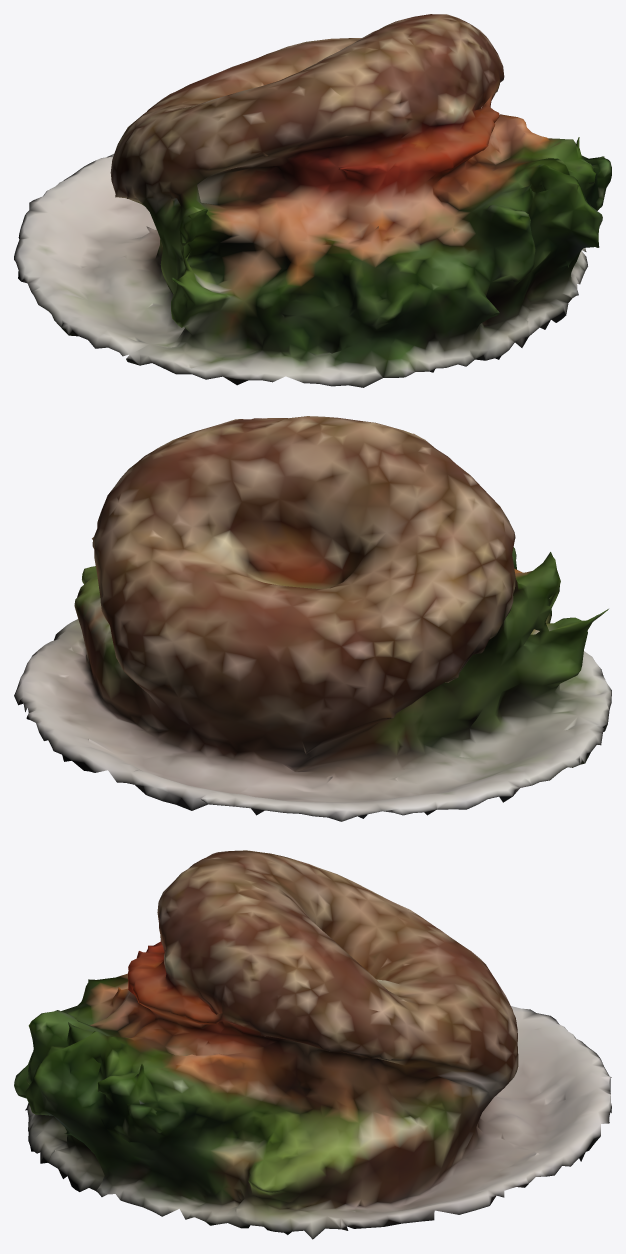
Rendered from valmisleipa3.obj.
3 renders of one model, top to bottom at view 1: azimuth 30°, elevation 25°; view 2: azimuth 150°, elevation 25°; view 3: azimuth 270°, elevation 25°, orthographic. The views are drawn at different scales.
Visible parts, largest first — view 1: Group_Global; view 2: Group_Global; view 3: Group_Global.
Part boxes in pixels (x1=…): Group_Global: x1=14, y1=14, x2=611, y2=387; Group_Global: x1=14, y1=416, x2=611, y2=821; Group_Global: x1=14, y1=850, x2=611, y2=1239.
Bounding box in the file's own units: 9.82 × 4.67 × 9.9.
